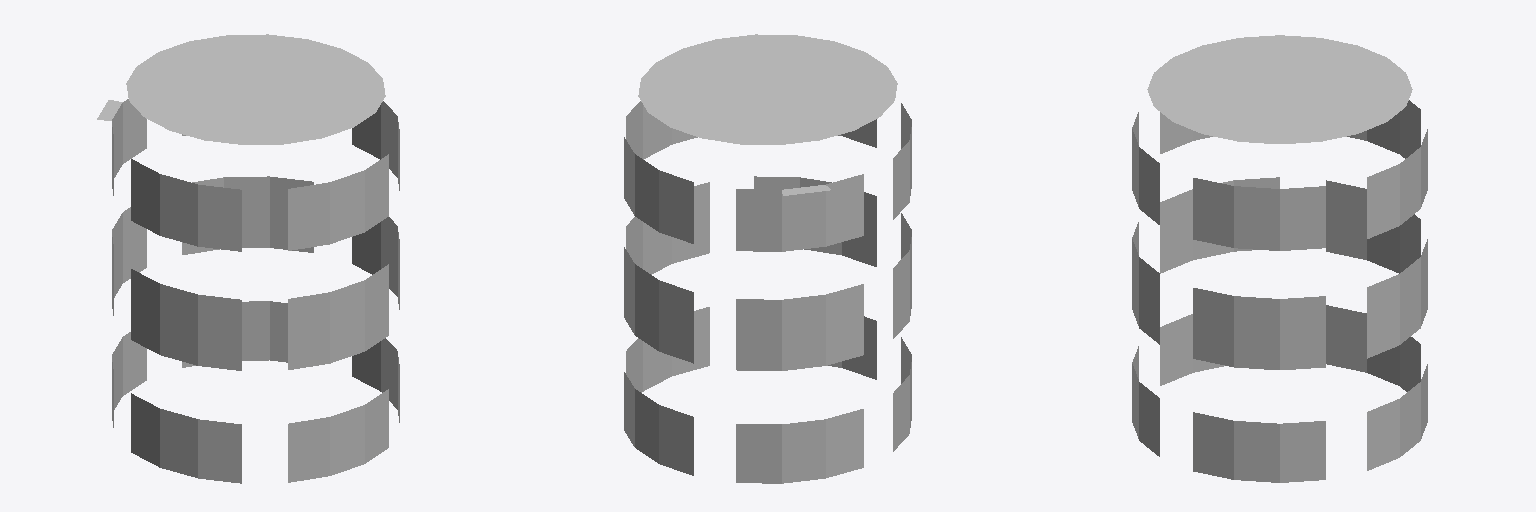
File: lampara.obj
3 renders of one model, left to right at view 1: azimuth 30°, elevation 25°; view 2: azimuth 150°, elevation 25°; view 3: azimuth 270°, elevation 25°, orthographic.
Parts seen in each view (by area): view 1: polySurface6 polySurface94, polySurface6 polySurface86, polySurface6 polySurface87, polySurface6 polySurface91, polySurface6 polySurface81, polySurface6 polySurface92, polySurface6 polySurface82, polySurface6 polySurface84, polySurface79 polySurface6, polySurface6 polySurface88, polySurface6 polySurface90, polySurface6 polySurface85 (+3 smaller); view 2: polySurface6 polySurface94, polySurface6 polySurface85, polySurface6 polySurface90, polySurface6 polySurface80, polySurface6 polySurface84, polySurface6 polySurface89, polySurface79 polySurface6, polySurface6 polySurface88, polySurface6 polySurface83, polySurface6 polySurface87, polySurface6 polySurface93, polySurface6 polySurface86 (+3 smaller); view 3: polySurface6 polySurface94, polySurface6 polySurface88, polySurface6 polySurface93, polySurface6 polySurface83, polySurface6 polySurface85, polySurface6 polySurface84, polySurface6 polySurface80, polySurface6 polySurface89, polySurface79 polySurface6, polySurface6 polySurface86, polySurface6 polySurface81, polySurface6 polySurface87 (+4 smaller).
Boxes of the visible parts, <box> form: polySurface6 polySurface94: <box>126,34,385,144</box>; polySurface6 polySurface86: <box>131,269,241,370</box>; polySurface6 polySurface87: <box>288,264,388,369</box>; polySurface6 polySurface91: <box>131,159,241,251</box>; polySurface6 polySurface81: <box>131,393,241,483</box>; polySurface6 polySurface92: <box>288,154,388,250</box>; polySurface6 polySurface82: <box>288,389,388,482</box>; polySurface6 polySurface84: <box>182,176,313,254</box>; polySurface79 polySurface6: <box>182,301,287,367</box>; polySurface6 polySurface88: <box>352,217,399,309</box>; polySurface6 polySurface90: <box>97,99,146,195</box>; polySurface6 polySurface85: <box>112,207,146,315</box>; polySurface6 polySurface94: <box>638,34,897,144</box>; polySurface6 polySurface85: <box>736,284,863,370</box>; polySurface6 polySurface90: <box>736,174,863,251</box>; polySurface6 polySurface80: <box>736,409,863,483</box>; polySurface6 polySurface84: <box>624,247,693,363</box>; polySurface6 polySurface89: <box>624,137,693,243</box>; polySurface79 polySurface6: <box>624,372,693,475</box>; polySurface6 polySurface88: <box>626,182,709,274</box>; polySurface6 polySurface83: <box>626,307,709,392</box>; polySurface6 polySurface87: <box>754,176,876,266</box>; polySurface6 polySurface93: <box>626,101,697,159</box>; polySurface6 polySurface86: <box>893,213,911,338</box>; polySurface6 polySurface94: <box>1147,35,1412,143</box>; polySurface6 polySurface88: <box>1193,288,1325,369</box>; polySurface6 polySurface93: <box>1193,178,1325,250</box>; polySurface6 polySurface83: <box>1193,412,1325,482</box>; polySurface6 polySurface85: <box>1326,180,1420,273</box>; polySurface6 polySurface84: <box>1367,239,1427,358</box>; polySurface6 polySurface80: <box>1326,305,1420,391</box>; polySurface6 polySurface89: <box>1367,129,1427,238</box>; polySurface79 polySurface6: <box>1367,364,1427,470</box>; polySurface6 polySurface86: <box>1160,177,1279,273</box>; polySurface6 polySurface81: <box>1160,314,1224,385</box>; polySurface6 polySurface87: <box>1132,222,1159,344</box>.
Size of the model in its own units: 0.2255 by 0.2868 by 0.2313.